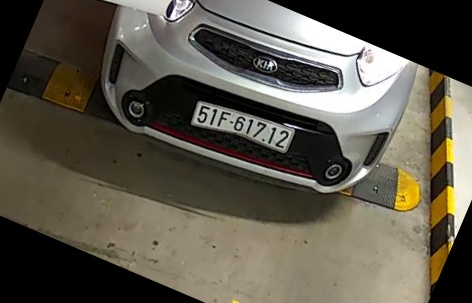plate: (183, 90, 297, 169)
